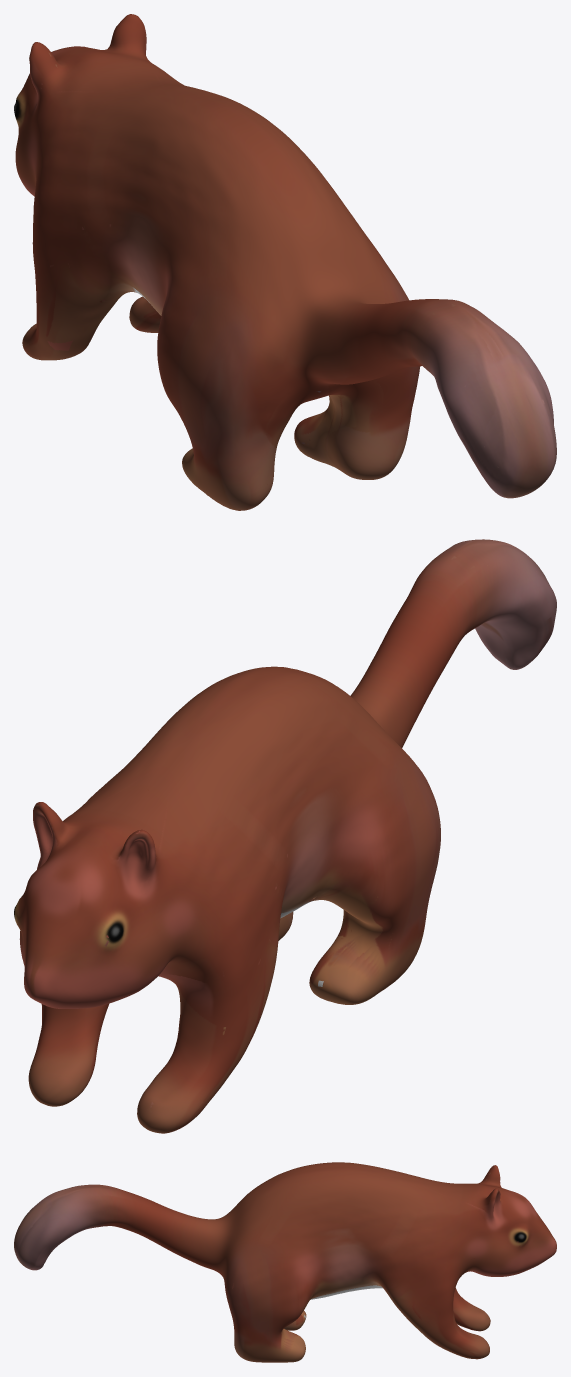
The model's file is squirrle 1.fbx.
The picture shows the model from 3 angles, top to bottom: view 1: azimuth 30°, elevation 25°; view 2: azimuth 150°, elevation 25°; view 3: azimuth 270°, elevation 25°; orthographic projection. The views are drawn at different scales.
Parts seen in each view (by area): view 1: Retopo_Sphere.001; view 2: Retopo_Sphere.001; view 3: Retopo_Sphere.001.
Boxes of the visible parts, x1,y1,x2,y2 form: Retopo_Sphere.001: (14,14,556,510); Retopo_Sphere.001: (14,539,556,1133); Retopo_Sphere.001: (14,1162,556,1362).
Bounding box in the file's own units: 467 × 648 × 1803.
